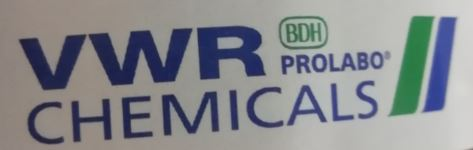VWR: (15, 11, 462, 146)
